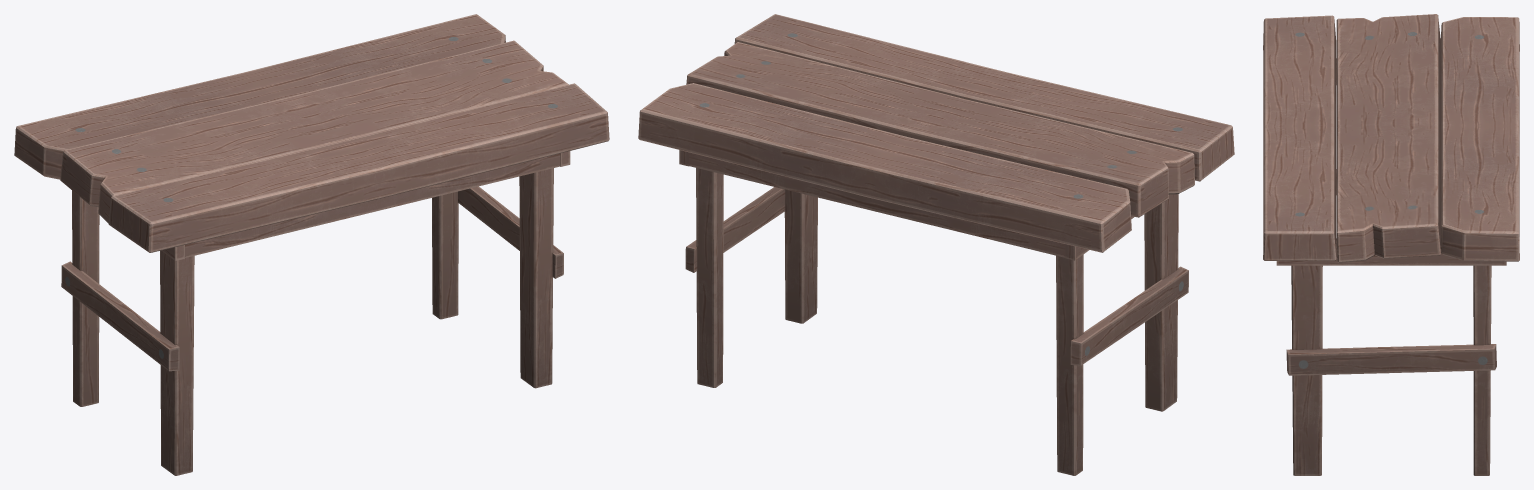
The picture shows the model from 3 angles, left to right: view 1: azimuth 30°, elevation 25°; view 2: azimuth 150°, elevation 25°; view 3: azimuth 270°, elevation 25°; orthographic projection. The views are drawn at different scales.
Visible parts, largest first — view 1: submesh_0; view 2: submesh_0; view 3: submesh_0.
Part boxes in pixels (x1=…): submesh_0: x1=14, y1=14, x2=609, y2=475; submesh_0: x1=638, y1=14, x2=1234, y2=475; submesh_0: x1=1263, y1=14, x2=1519, y2=475.
Bounding box in the file's own units: 1.63 × 0.9332 × 0.8085.
1 material, 1 textured.
